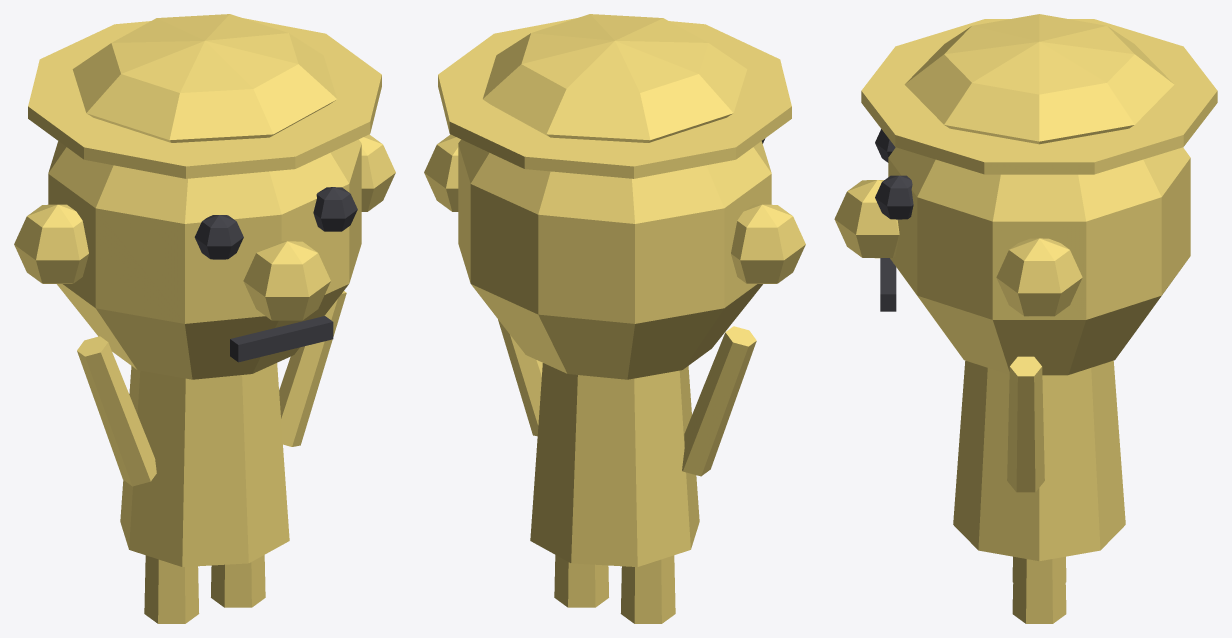
Rendered from VJ_Cabezudo.fbx.
3 views of the same model, side by side, from view 1: azimuth 30°, elevation 25°; view 2: azimuth 150°, elevation 25°; view 3: azimuth 270°, elevation 25° (orthographic).
Parts seen in each view (by area): view 1: VJ_Cabezudo; view 2: VJ_Cabezudo; view 3: VJ_Cabezudo.
Part boxes in pixels (bbox=[...]): VJ_Cabezudo: bbox=[14, 14, 395, 623]; VJ_Cabezudo: bbox=[424, 14, 805, 623]; VJ_Cabezudo: bbox=[834, 14, 1217, 623].
Bounding box in the file's own units: 1.52 × 2.27 × 1.42.
